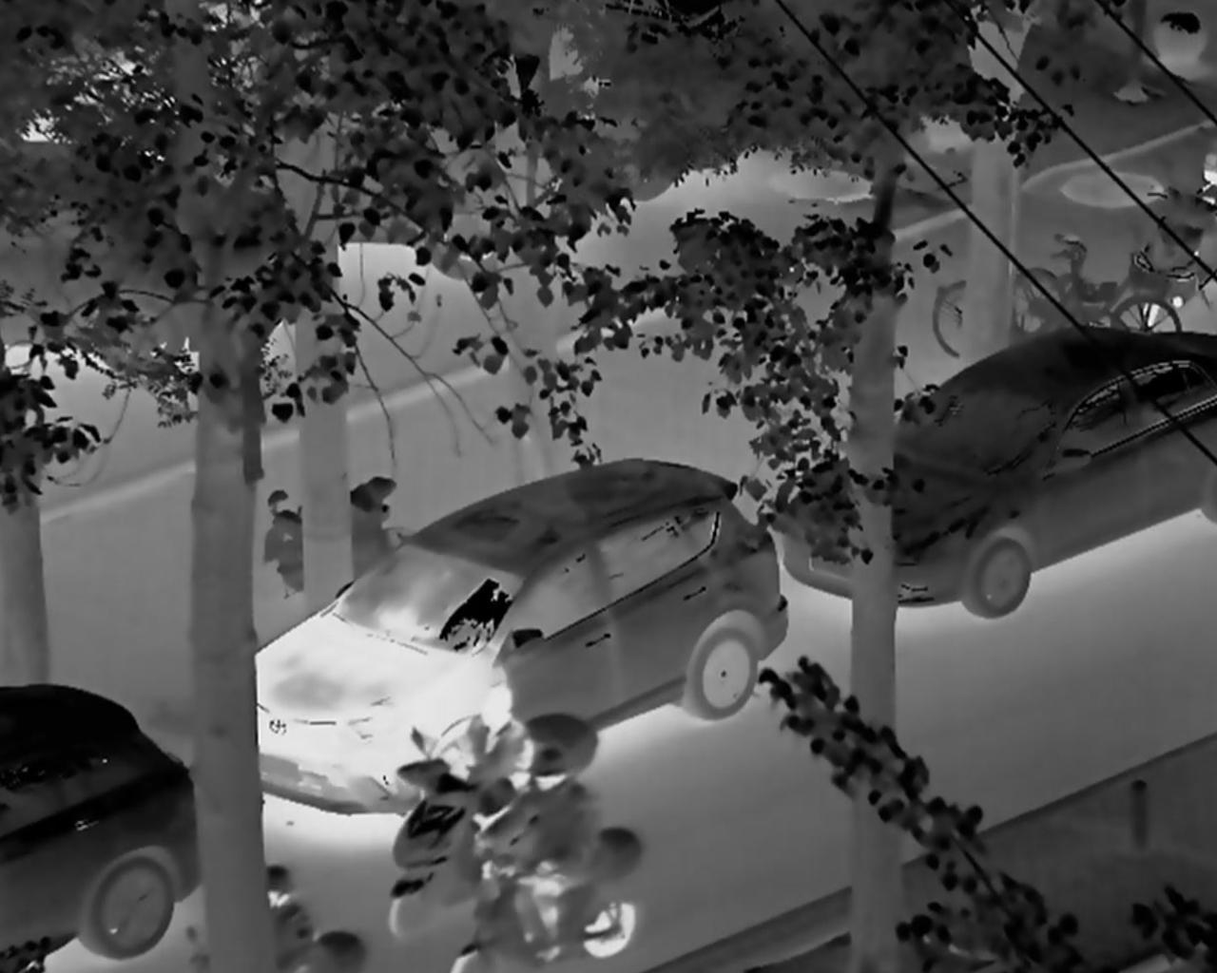person: (485, 746, 635, 964), (414, 689, 532, 833)
